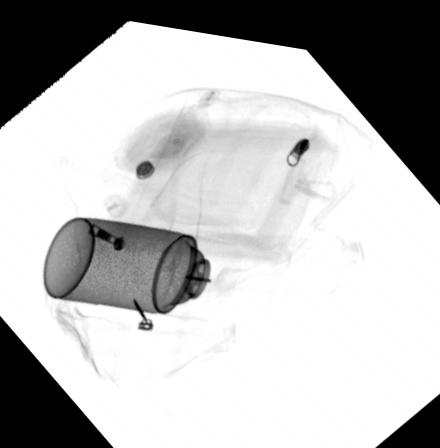Sprayer: (39, 212, 245, 315)
